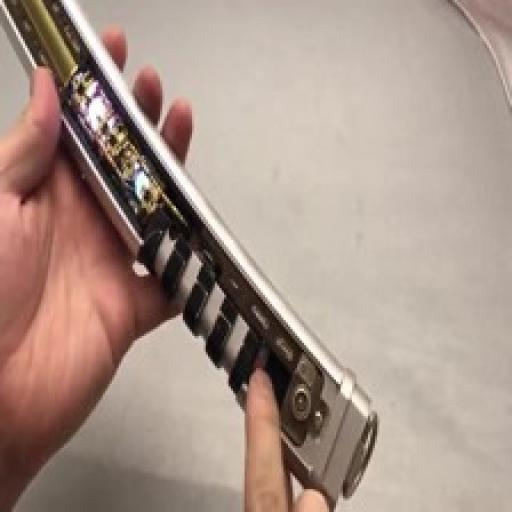lightsaber: (0, 0, 375, 510)
